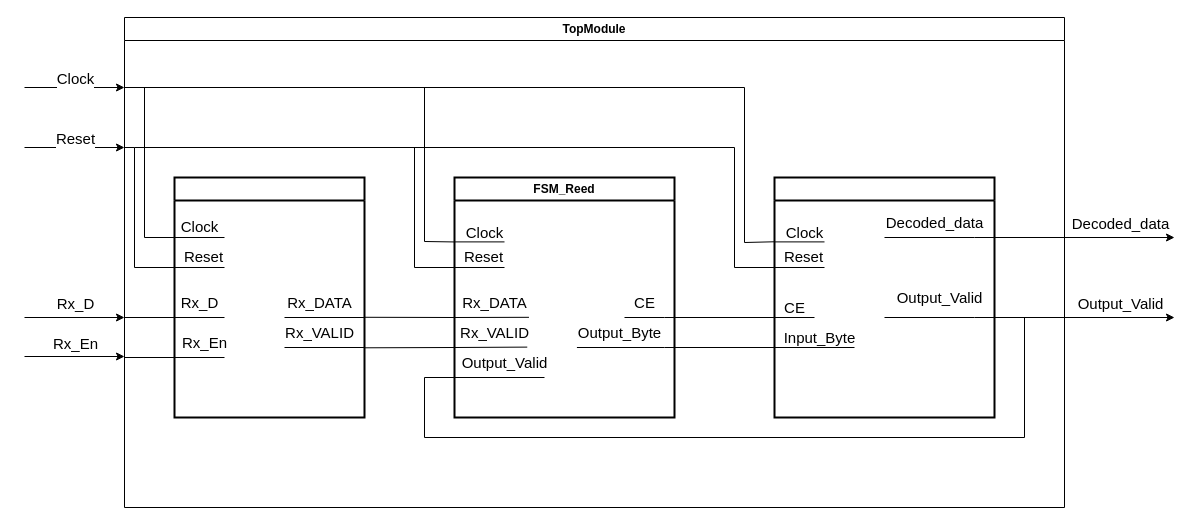
Some shapes in this 1200 by 525 pixel diagram are drawn without their labels. The box of each missing label's shape, as (x1, y1, x2, y2) in pixels:
Reed_Solomon_Decoder: (773, 176, 995, 418)
UART_Receiver: (173, 176, 365, 418)
